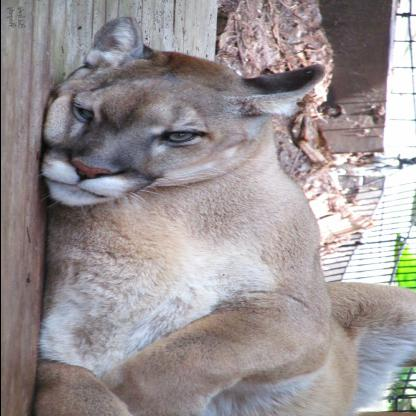lion: (26, 25, 323, 209)
